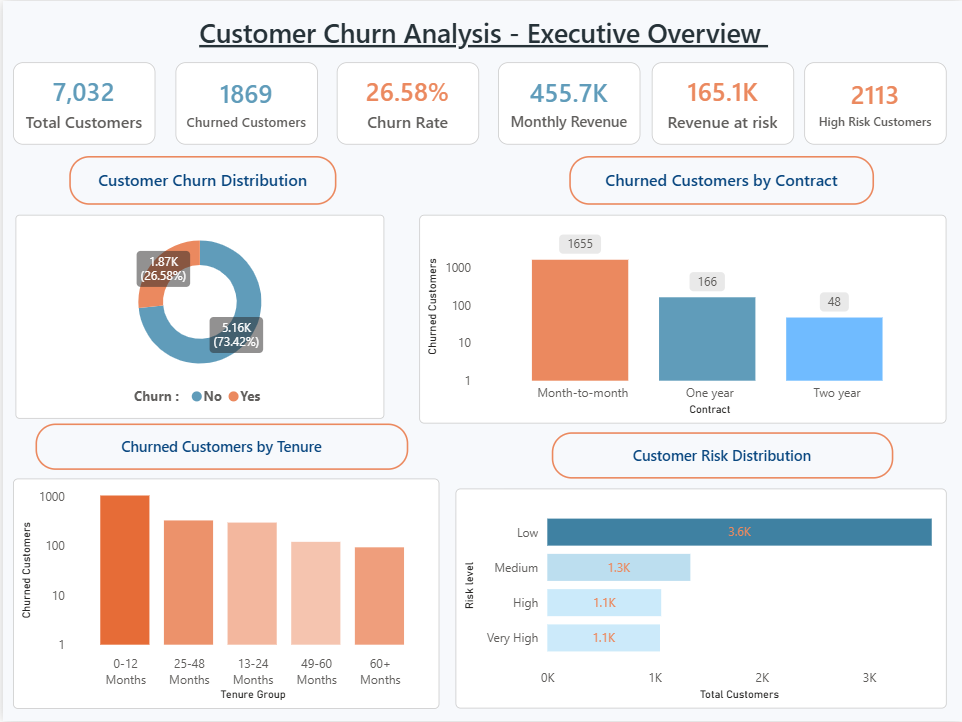

Layout of this report page (visuals, bound fields, positions):
{"tool":"powerbi","page":{"name":"Executive Overview","canvas":[960,720],"ordinal":0},"visuals":[{"type":"textbox","box":[187.5,8.8,586.2,46.2],"z":0},{"type":"cardVisual","fields":{"Data":["customer_churn_predictions.Total_Customers"]},"box":[9.8,61.5,142.5,82.5],"z":1000},{"type":"cardVisual","fields":{"Data":["customer_churn_predictions.Churned Customers"]},"box":[172.3,61.5,142.5,82.5],"z":2000},{"type":"cardVisual","fields":{"Data":["customer_churn_predictions.Churn Rate"]},"box":[333.5,61.5,142.5,82.5],"z":3000},{"type":"cardVisual","fields":{"Data":["customer_churn_predictions.Monthly Revenue"]},"box":[494.8,61.5,142.5,82.5],"z":4000},{"type":"cardVisual","fields":{"Data":["customer_churn_predictions.Revenue at risk"]},"box":[648.5,61.5,142.5,82.5],"z":5000},{"type":"cardVisual","fields":{"Data":["customer_churn_predictions.High Risk Customers"]},"box":[801,61.5,142.5,82.5],"z":6000},{"type":"donutChart","title":"Customer Churn Distribution","fields":{"Category":["customer_churn_predictions.Churn"],"Y":["Count(customer_churn_predictions.customerID)"]},"box":[12.5,213.8,368.8,203.8],"z":7000},{"type":"textbox","box":[66.2,155,267.5,48.8],"z":8000},{"type":"clusteredColumnChart","fields":{"Category":["customer_churn_predictions.Contract"],"Y":["customer_churn_predictions.Churned Customers"]},"box":[416.2,213.8,527.5,208.8],"z":9000},{"type":"textbox","box":[566.2,155,305,48.8],"z":10000},{"type":"clusteredColumnChart","fields":{"Category":["customer_churn_predictions.Tenure Group"],"Y":["customer_churn_predictions.Churned Customers"]},"box":[10,477.5,426.2,230],"z":11000},{"type":"textbox","box":[32.5,422.5,372.5,46.2],"z":12000},{"type":"textbox","box":[548.8,431.2,341.2,46.2],"z":13000},{"type":"clusteredBarChart","fields":{"Category":["customer_churn_predictions.risk_level"],"Y":["customer_churn_predictions.Total_Customers"]},"box":[452.5,487.5,491.2,220],"z":14000}]}

Visuals, with their boxes in screenshot pixels (x1, y1, x2, y2), scaled from the page's 960x720 canvas onto the 962x722 screenshot:
textbox: pyautogui.locateOnScreen(188, 9, 775, 55)
cardVisual - customer_churn_predictions.Total_Customers: pyautogui.locateOnScreen(10, 62, 153, 144)
cardVisual - customer_churn_predictions.Churned Customers: pyautogui.locateOnScreen(173, 62, 315, 144)
cardVisual - customer_churn_predictions.Churn Rate: pyautogui.locateOnScreen(334, 62, 477, 144)
cardVisual - customer_churn_predictions.Monthly Revenue: pyautogui.locateOnScreen(496, 62, 639, 144)
cardVisual - customer_churn_predictions.Revenue at risk: pyautogui.locateOnScreen(650, 62, 793, 144)
cardVisual - customer_churn_predictions.High Risk Customers: pyautogui.locateOnScreen(803, 62, 945, 144)
"Customer Churn Distribution" donutChart: pyautogui.locateOnScreen(13, 214, 382, 419)
textbox: pyautogui.locateOnScreen(66, 155, 334, 204)
clusteredColumnChart - customer_churn_predictions.Contract x customer_churn_predictions.Churned Customers: pyautogui.locateOnScreen(417, 214, 946, 424)
textbox: pyautogui.locateOnScreen(567, 155, 873, 204)
clusteredColumnChart - customer_churn_predictions.Tenure Group x customer_churn_predictions.Churned Customers: pyautogui.locateOnScreen(10, 479, 437, 709)
textbox: pyautogui.locateOnScreen(33, 424, 406, 470)
textbox: pyautogui.locateOnScreen(550, 432, 892, 479)
clusteredBarChart - customer_churn_predictions.risk_level x customer_churn_predictions.Total_Customers: pyautogui.locateOnScreen(453, 489, 946, 709)
